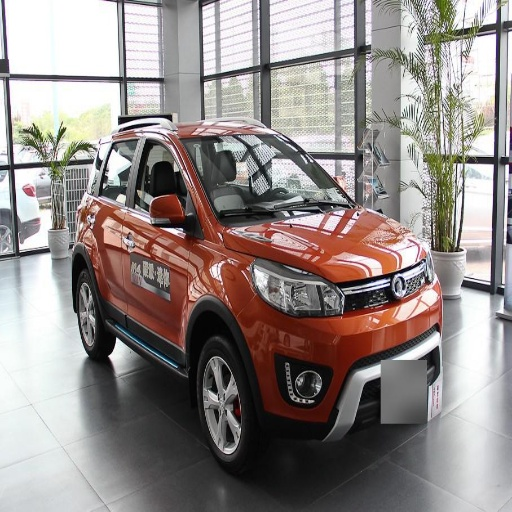front_bumper: (242, 279, 441, 439)
front_right_door: (124, 132, 199, 349)
front_right_light: (247, 260, 346, 317)
